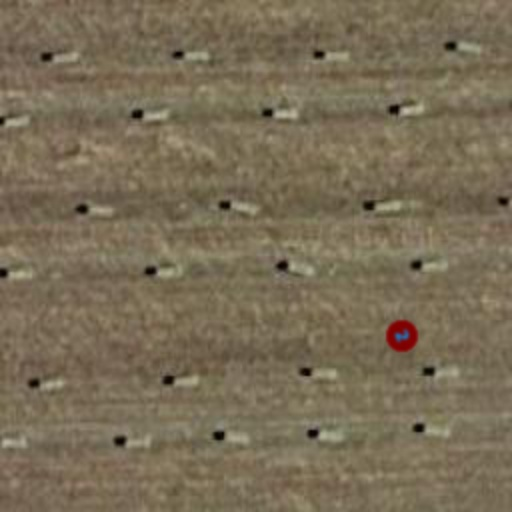circle: (380, 314, 424, 358)
